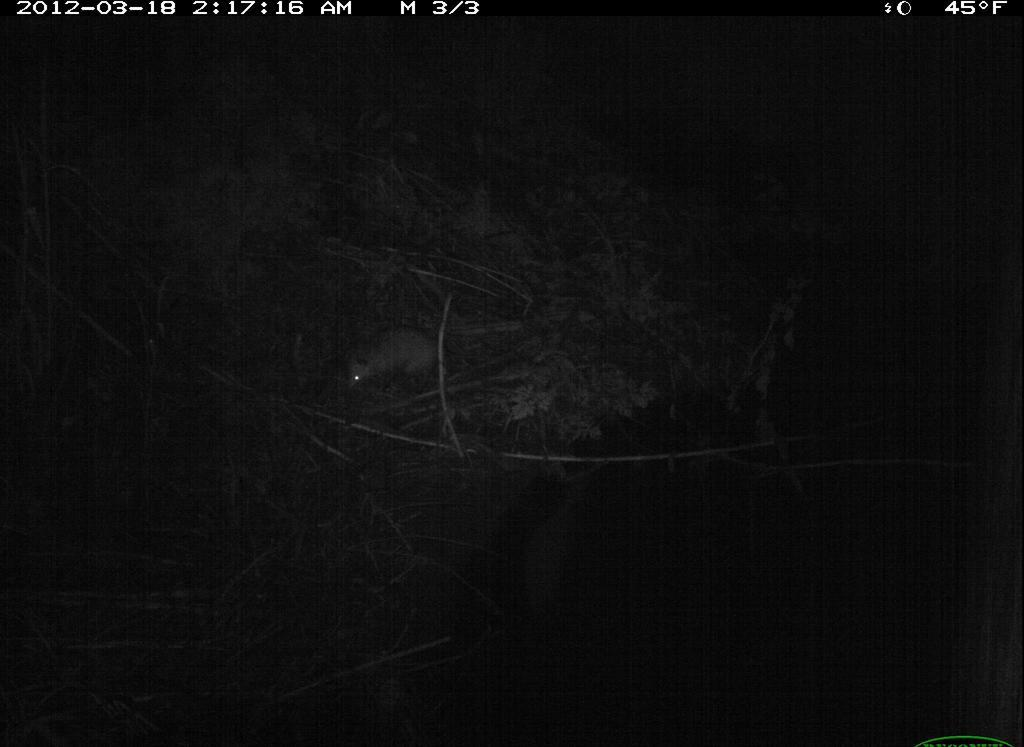opossum: (333, 318, 477, 404)
